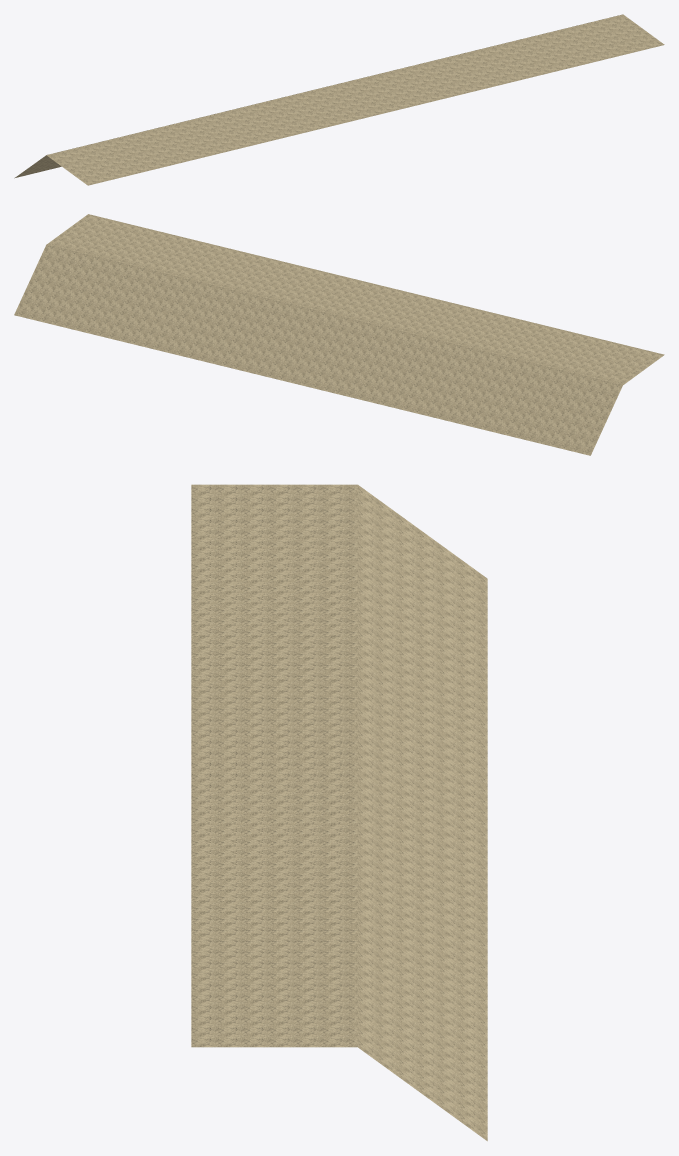
The model's file is beach.glb.
3 renders of one model, top to bottom at view 1: azimuth 30°, elevation 25°; view 2: azimuth 150°, elevation 25°; view 3: azimuth 270°, elevation 25°, orthographic. The views are drawn at different scales.
Parts seen in each view (by area): view 1: Cube, Cube.001; view 2: Cube.001, Cube; view 3: Cube, Cube.001.
Part boxes in pixels (x1=…): Cube: x1=46, y1=14, x2=664, y2=185; Cube.001: x1=14, y1=15, x2=618, y2=178; Cube.001: x1=14, y1=244, x2=622, y2=455; Cube: x1=47, y1=214, x2=664, y2=384; Cube: x1=191, y1=484, x2=357, y2=1047; Cube.001: x1=357, y1=485, x2=487, y2=1141.
Size of the model in its own units: 16.19 by 1.27 by 3.6.
Materials: 1 (1 with a texture image).
